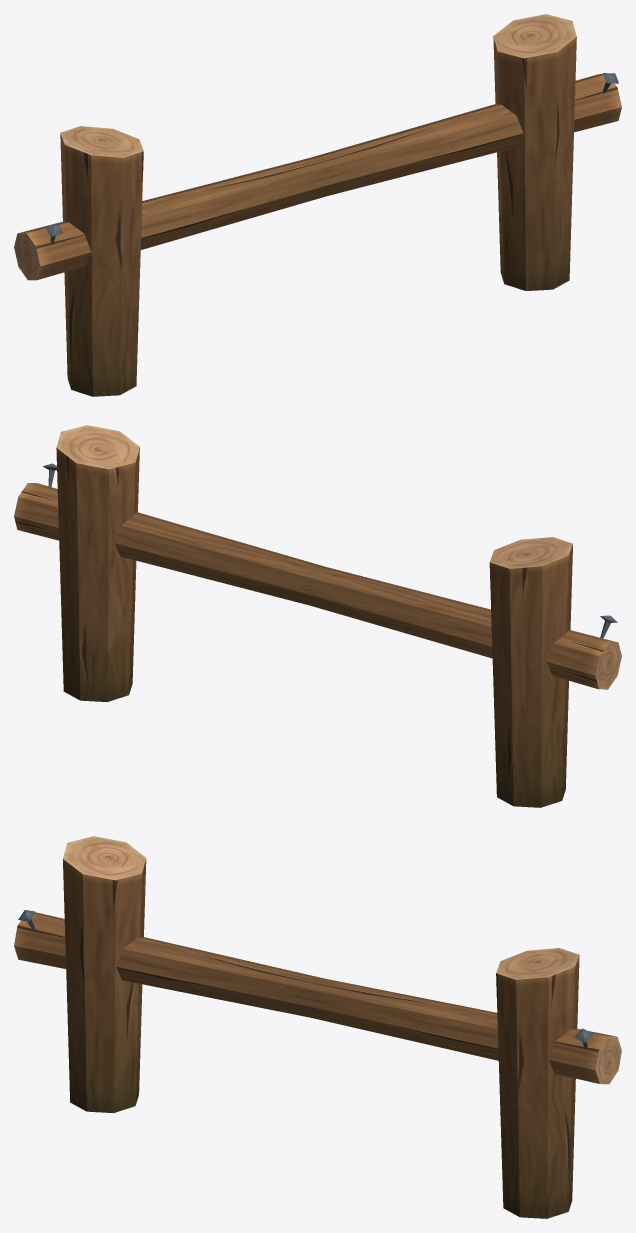
The model's file is wooden_fence_15.fbx.
3 views of the same model, one above another, from view 1: azimuth 30°, elevation 25°; view 2: azimuth 150°, elevation 25°; view 3: azimuth 330°, elevation 25° (orthographic).
Parts seen in each view (by area): view 1: wooden_fence_15:Mesh; view 2: wooden_fence_15:Mesh; view 3: wooden_fence_15:Mesh.
Part boxes in pixels (x1,y1,x2,y2): wooden_fence_15:Mesh: (14, 14, 621, 396); wooden_fence_15:Mesh: (14, 425, 621, 807); wooden_fence_15:Mesh: (14, 836, 621, 1218).
Bounding box in the file's own units: 7.32 × 2.96 × 0.9473.
